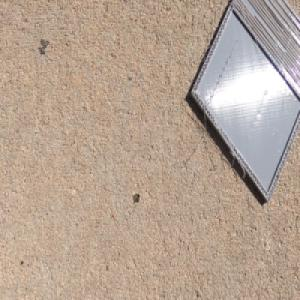PlasticPart: (188, 0, 300, 205)
